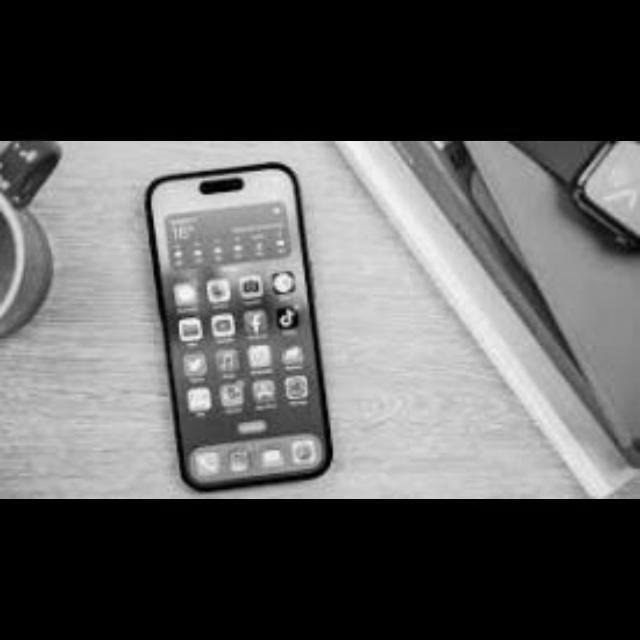fake: (144, 156, 332, 490)
